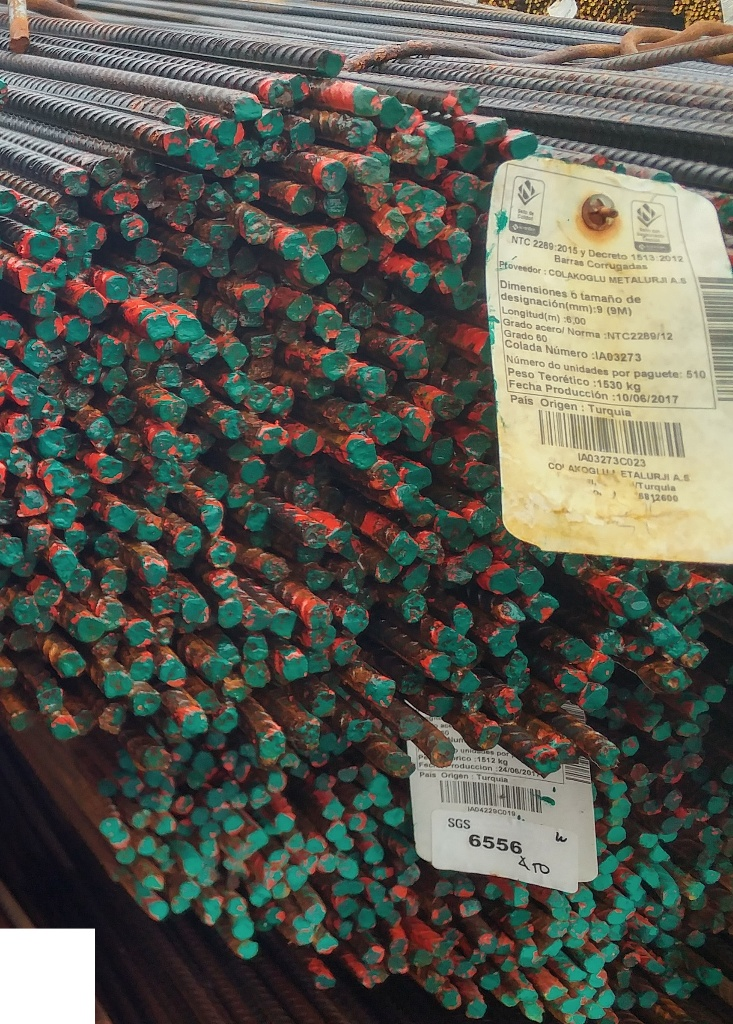dipstick: (102, 186, 139, 213), (241, 213, 269, 248), (354, 369, 386, 399), (412, 214, 441, 247), (279, 230, 313, 258), (138, 177, 166, 211), (156, 658, 187, 688), (420, 155, 452, 184), (321, 190, 354, 218), (214, 119, 249, 145), (291, 184, 320, 215), (163, 132, 194, 161), (207, 218, 238, 247), (402, 340, 431, 371), (156, 457, 187, 486), (487, 564, 516, 595), (339, 245, 371, 273), (390, 306, 422, 334), (465, 463, 499, 489), (298, 254, 329, 282), (174, 313, 205, 341), (154, 399, 186, 426), (489, 629, 522, 655), (402, 136, 431, 165), (257, 427, 286, 456), (446, 635, 475, 664), (428, 126, 456, 156), (455, 144, 486, 171), (347, 120, 378, 147), (170, 203, 201, 230), (50, 715, 81, 742), (685, 640, 711, 672), (89, 159, 125, 182), (199, 502, 222, 538), (270, 388, 295, 421), (9, 448, 34, 481), (183, 241, 211, 270), (64, 381, 92, 410), (528, 595, 557, 623), (367, 677, 396, 705), (310, 690, 339, 718), (436, 264, 463, 294), (314, 310, 341, 340), (465, 433, 495, 460), (108, 396, 138, 423), (519, 567, 546, 597), (289, 121, 315, 152), (45, 465, 71, 496), (144, 482, 170, 513), (123, 621, 154, 647), (362, 277, 394, 302), (96, 458, 129, 482), (73, 617, 106, 641), (379, 213, 407, 241), (189, 141, 217, 169), (147, 431, 175, 459), (104, 670, 132, 698), (596, 629, 624, 657), (447, 232, 474, 261), (219, 409, 246, 438), (36, 315, 65, 342), (491, 691, 520, 718), (98, 599, 125, 628), (24, 342, 50, 372), (49, 498, 75, 528), (405, 262, 430, 293), (239, 287, 270, 312), (552, 671, 587, 693), (230, 97, 262, 121), (404, 566, 436, 590), (266, 82, 293, 110), (339, 220, 367, 247), (120, 213, 148, 240), (176, 270, 204, 297), (189, 338, 217, 365), (292, 430, 319, 458), (42, 368, 70, 395), (37, 430, 64, 458), (32, 398, 60, 425), (500, 599, 527, 627), (306, 647, 334, 674), (648, 618, 676, 645), (577, 685, 604, 713), (237, 171, 263, 200), (236, 140, 265, 166), (245, 385, 271, 414), (407, 411, 433, 440), (385, 754, 414, 780), (247, 355, 277, 380), (11, 371, 36, 401), (180, 600, 210, 625), (507, 134, 539, 157), (482, 404, 505, 436), (26, 236, 61, 257), (378, 99, 405, 126), (176, 174, 203, 201), (172, 527, 199, 554), (622, 589, 649, 616), (664, 561, 691, 588), (454, 87, 480, 115), (475, 182, 501, 210), (320, 49, 346, 77), (397, 184, 423, 212), (348, 303, 376, 329), (349, 438, 375, 466), (417, 535, 445, 561), (390, 537, 418, 563), (211, 568, 237, 596), (454, 174, 479, 203), (232, 248, 257, 277), (152, 266, 177, 295), (224, 373, 249, 402), (64, 318, 89, 347), (2, 538, 27, 567), (423, 188, 446, 219), (628, 638, 659, 661), (144, 319, 176, 341), (355, 87, 381, 114), (20, 489, 46, 516), (273, 612, 300, 638), (447, 557, 472, 585), (554, 741, 582, 766), (131, 151, 160, 175), (63, 173, 92, 197), (36, 585, 69, 606), (31, 206, 62, 228), (8, 412, 30, 443), (453, 605, 475, 636), (102, 571, 128, 597), (132, 689, 158, 715), (370, 234, 395, 261), (216, 152, 241, 179), (204, 191, 231, 216), (324, 353, 349, 380), (590, 659, 617, 684), (478, 119, 506, 143), (366, 181, 390, 209), (435, 514, 463, 538), (296, 482, 320, 510), (56, 199, 85, 222), (277, 319, 306, 342), (390, 488, 419, 511), (75, 356, 98, 385), (138, 561, 167, 584), (300, 722, 323, 751), (438, 394, 460, 424), (322, 163, 347, 189), (311, 227, 336, 253), (33, 292, 58, 318), (223, 344, 249, 369), (260, 734, 285, 760), (376, 416, 400, 443), (103, 368, 127, 395), (683, 619, 710, 643), (454, 204, 477, 232), (133, 269, 156, 297), (456, 282, 478, 311), (563, 642, 592, 664), (406, 594, 427, 624), (341, 569, 366, 594), (60, 652, 85, 677), (396, 714, 421, 739), (263, 137, 289, 161), (371, 152, 395, 178), (359, 159, 385, 183), (337, 329, 361, 355), (98, 338, 122, 364), (282, 653, 306, 679), (245, 609, 271, 633), (244, 664, 268, 690), (13, 602, 39, 626), (562, 551, 586, 577), (399, 107, 422, 134), (165, 107, 192, 130), (213, 305, 236, 332), (158, 364, 185, 387), (469, 508, 492, 535), (303, 526, 330, 549), (335, 641, 362, 664), (152, 592, 179, 615), (99, 707, 122, 734), (430, 745, 457, 768), (291, 74, 313, 102), (305, 378, 333, 400), (245, 505, 273, 527), (404, 468, 433, 489), (532, 753, 561, 774), (1, 319, 20, 351), (103, 278, 128, 302), (248, 335, 278, 355), (467, 549, 497, 569), (428, 694, 453, 718), (217, 602, 241, 627), (184, 711, 209, 735), (670, 598, 694, 623), (638, 864, 662, 889), (19, 266, 45, 289), (212, 539, 235, 565), (370, 465, 397, 487), (411, 501, 433, 528), (243, 459, 265, 486), (307, 570, 334, 592), (257, 114, 286, 134), (461, 379, 481, 408), (27, 524, 47, 553), (328, 278, 352, 302), (45, 262, 69, 286), (89, 421, 113, 445), (215, 711, 239, 735), (138, 240, 161, 265), (447, 530, 472, 553), (179, 438, 204, 461), (65, 566, 88, 591), (136, 518, 161, 541), (344, 608, 367, 633), (244, 635, 267, 660), (64, 234, 90, 256), (182, 384, 208, 406), (109, 507, 135, 529), (220, 643, 242, 669), (347, 720, 373, 742), (53, 550, 72, 580), (86, 224, 107, 251), (92, 535, 119, 556), (372, 560, 399, 581), (480, 726, 501, 753), (305, 608, 332, 629), (453, 673, 481, 693), (196, 694, 220, 717), (595, 746, 619, 769), (1, 189, 20, 218), (289, 296, 311, 321), (224, 678, 246, 703), (118, 437, 144, 458), (309, 627, 335, 648), (665, 668, 686, 694), (136, 342, 163, 362), (37, 694, 64, 714), (297, 545, 325, 564), (261, 561, 289, 580), (204, 659, 232, 678), (432, 903, 455, 926), (79, 292, 103, 314), (205, 475, 227, 499), (402, 670, 424, 694), (696, 964, 720, 986), (454, 878, 479, 899), (694, 582, 714, 608), (433, 439, 452, 466), (511, 888, 538, 907), (72, 475, 94, 498), (321, 488, 343, 511), (432, 659, 455, 681), (133, 662, 156, 684), (291, 759, 313, 782), (145, 748, 167, 771), (267, 770, 288, 794), (182, 855, 206, 876), (154, 815, 178, 836), (69, 258, 94, 278), (511, 655, 531, 680), (237, 307, 264, 325), (332, 525, 350, 552), (675, 722, 702, 740), (284, 867, 306, 889), (709, 794, 732, 815), (661, 816, 685, 836), (476, 933, 496, 957), (588, 922, 605, 950), (212, 251, 230, 277), (483, 883, 509, 901), (158, 616, 174, 645), (509, 907, 531, 928), (398, 866, 420, 887), (147, 901, 169, 922), (705, 681, 725, 704), (591, 873, 614, 893), (608, 922, 628, 945), (322, 798, 345, 818), (649, 722, 673, 741), (632, 783, 651, 807), (193, 752, 217, 771), (622, 877, 647, 895), (663, 884, 680, 910), (616, 846, 642, 863), (599, 858, 625, 875), (229, 486, 250, 507), (567, 917, 588, 938), (458, 899, 480, 919), (75, 497, 94, 520), (412, 949, 435, 968), (363, 947, 386, 966), (372, 788, 395, 807), (145, 874, 168, 893), (173, 741, 192, 764), (229, 444, 253, 462), (605, 782, 629, 800), (613, 893, 637, 911), (388, 954, 412, 972), (519, 946, 540, 966), (467, 1000, 488, 1020), (182, 880, 202, 901), (250, 527, 272, 546), (608, 827, 630, 846), (441, 991, 463, 1010), (351, 791, 373, 810), (208, 803, 234, 819), (687, 701, 710, 719), (701, 826, 724, 844), (227, 898, 250, 916), (199, 822, 222, 840), (138, 835, 156, 858), (383, 808, 407, 825), (517, 987, 544, 1002), (69, 528, 85, 553), (556, 1001, 581, 1017), (347, 812, 366, 833), (339, 860, 360, 879), (478, 972, 500, 990), (238, 941, 260, 959), (252, 885, 270, 907), (206, 732, 228, 750), (685, 880, 702, 903), (542, 940, 565, 957), (344, 541, 364, 560), (684, 754, 703, 774), (568, 966, 588, 985), (425, 976, 444, 996), (306, 906, 326, 925), (249, 787, 269, 806), (434, 941, 455, 959), (117, 847, 138, 865), (590, 970, 612, 987), (314, 774, 336, 791), (232, 919, 254, 936), (638, 832, 661, 848), (278, 753, 301, 769), (134, 811, 153, 830), (636, 683, 655, 702), (622, 736, 640, 756), (666, 791, 684, 811), (584, 1004, 604, 1022), (566, 936, 590, 951), (457, 961, 477, 979), (310, 749, 328, 769), (364, 843, 384, 861), (319, 855, 337, 875), (293, 916, 317, 931), (277, 812, 295, 832), (175, 796, 195, 814), (546, 922, 567, 939), (315, 975, 336, 992), (463, 693, 482, 711), (612, 800, 630, 819), (359, 910, 377, 929), (220, 750, 239, 768), (124, 778, 142, 797), (664, 763, 681, 783), (664, 977, 681, 997), (617, 989, 634, 1009), (434, 881, 454, 898), (333, 836, 353, 853), (174, 898, 194, 915), (635, 993, 659, 1007), (659, 917, 680, 933), (403, 843, 419, 864), (369, 866, 393, 880), (317, 936, 338, 952), (273, 884, 294, 900), (575, 983, 597, 998), (548, 894, 570, 909), (305, 838, 327, 853), (222, 814, 244, 829), (230, 791, 248, 809), (687, 930, 706, 947), (193, 808, 212, 825), (699, 848, 713, 871), (596, 993, 616, 1009), (503, 991, 519, 1011), (437, 960, 457, 976), (390, 939, 410, 955), (368, 882, 383, 903), (100, 819, 121, 834), (651, 849, 673, 863), (711, 911, 725, 933), (610, 706, 624, 728), (334, 736, 352, 753), (302, 857, 319, 875), (288, 835, 306, 852), (376, 899, 393, 917), (686, 736, 705, 752), (520, 925, 536, 944), (405, 897, 421, 916), (321, 734, 337, 753), (112, 831, 131, 847), (545, 986, 565, 1001), (327, 825, 347, 840), (265, 911, 288, 924), (572, 887, 593, 901), (338, 901, 359, 915), (294, 931, 315, 945), (645, 798, 662, 815), (654, 933, 671, 950), (580, 901, 598, 917), (359, 818, 377, 834), (233, 762, 251, 778), (200, 868, 216, 886), (606, 910, 632, 921), (498, 942, 517, 957), (248, 832, 267, 847), (234, 845, 253, 860), (525, 1005, 545, 1019), (206, 789, 226, 803), (719, 891, 732, 912), (334, 881, 351, 897), (662, 951, 680, 966), (201, 841, 220, 855), (371, 777, 393, 789), (340, 768, 360, 781), (222, 781, 239, 796), (153, 850, 170, 865), (145, 774, 162, 789), (587, 957, 606, 970), (392, 884, 405, 903), (632, 764, 648, 779), (704, 870, 720, 885), (240, 744, 255, 760), (499, 960, 520, 971), (256, 920, 275, 932), (667, 746, 684, 759), (338, 921, 351, 938), (557, 907, 570, 922), (351, 884, 365, 897), (723, 766, 733, 784), (388, 911, 400, 926), (618, 687, 628, 704)
